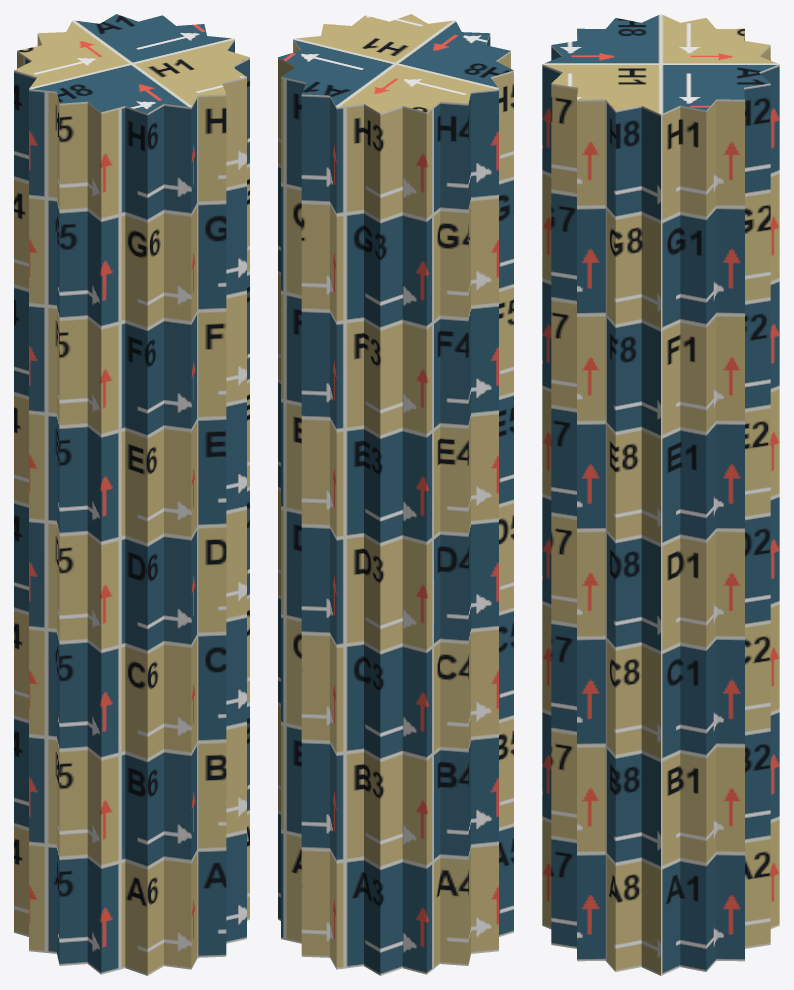
The model's file is COLUMN_Fluted.fbx.
The picture shows the model from 3 angles, left to right: view 1: azimuth 30°, elevation 25°; view 2: azimuth 150°, elevation 25°; view 3: azimuth 270°, elevation 25°; orthographic projection.
Parts seen in each view (by area): view 1: COLUMN_Fluted; view 2: COLUMN_Fluted; view 3: COLUMN_Fluted.
Part boxes in pixels (x1=…): COLUMN_Fluted: x1=14, y1=14, x2=249, y2=975; COLUMN_Fluted: x1=278, y1=14, x2=513, y2=975; COLUMN_Fluted: x1=542, y1=14, x2=779, y2=975.
Bounding box in the file's own units: 50 × 200 × 50.
Materials: 1 (1 with a texture image).
